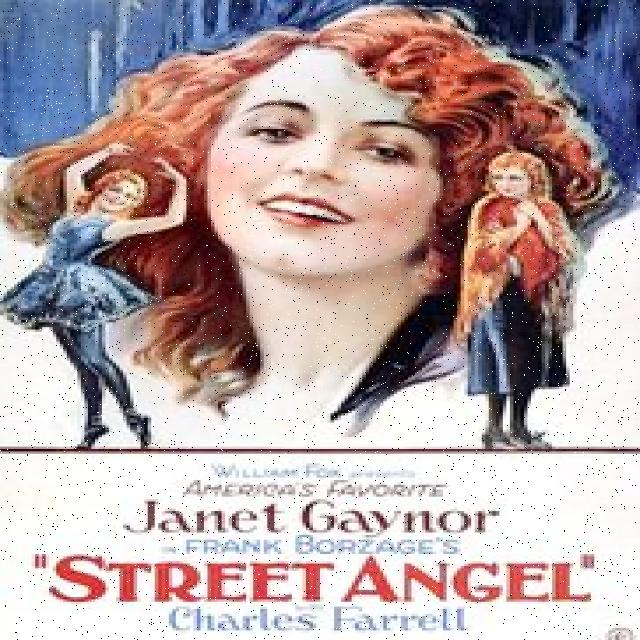movie-judul: (3, 453, 640, 637)
picture: (3, 0, 640, 451)
